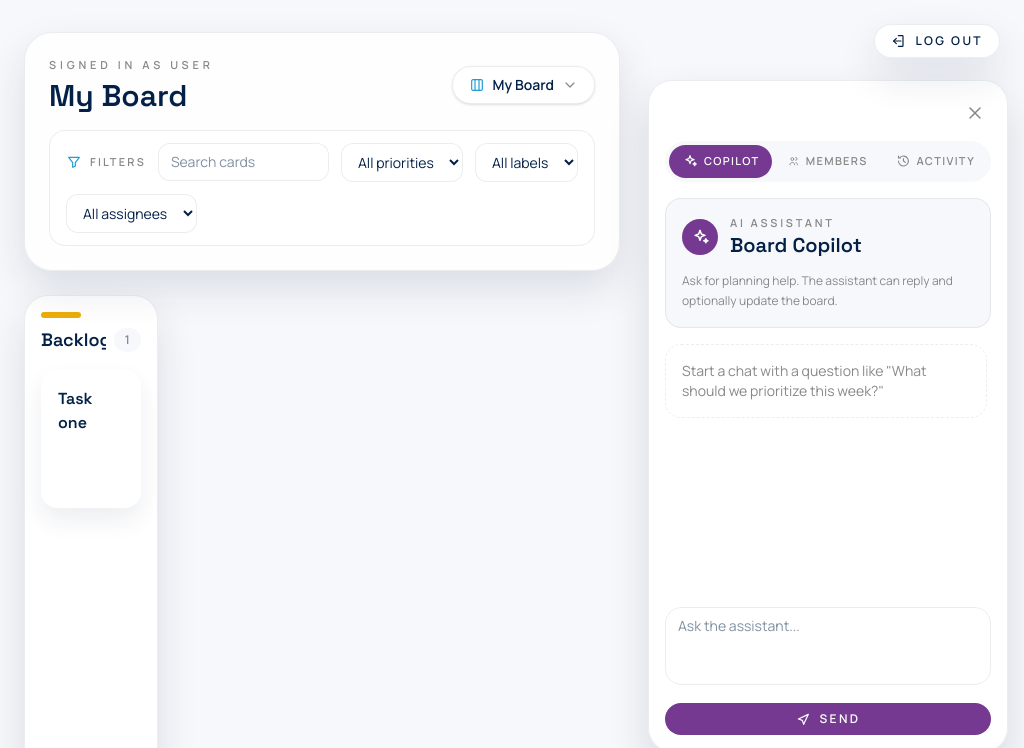
Scenario: Workspace › hides and reopens the assistant panel
Expected: the field showing "My Board" is shown, [49, 78, 410, 114]
Expected: the text box named "AI chat input" is shown, [665, 607, 991, 685]
Click the button named "hide assistant panel".
click(975, 113)  # box [959, 97, 991, 129]
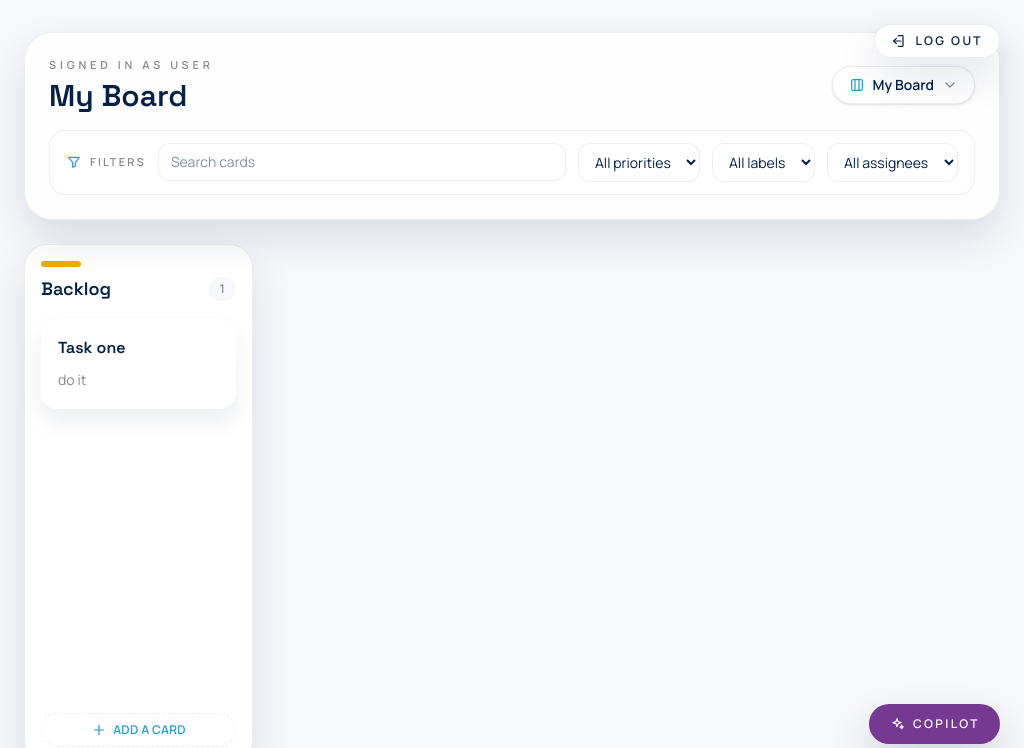
Click the button with aria-label "open assistant panel".
click(934, 724)  # box [869, 704, 1000, 744]
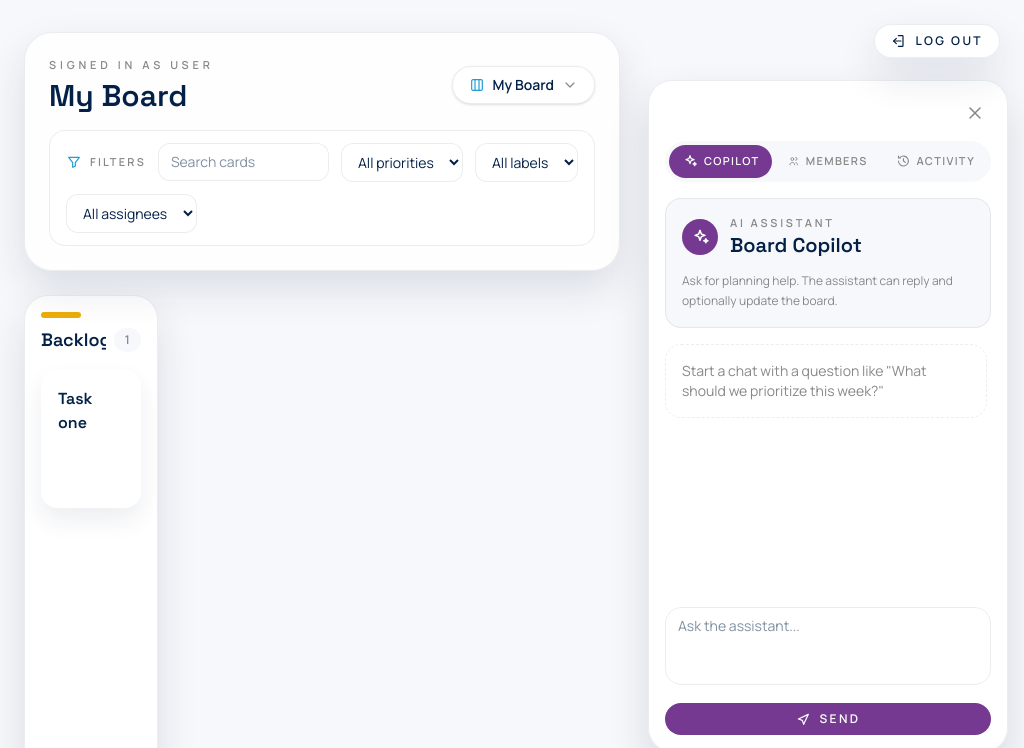
Expected: the text box named "AI chat input" is shown, [665, 607, 991, 685]
